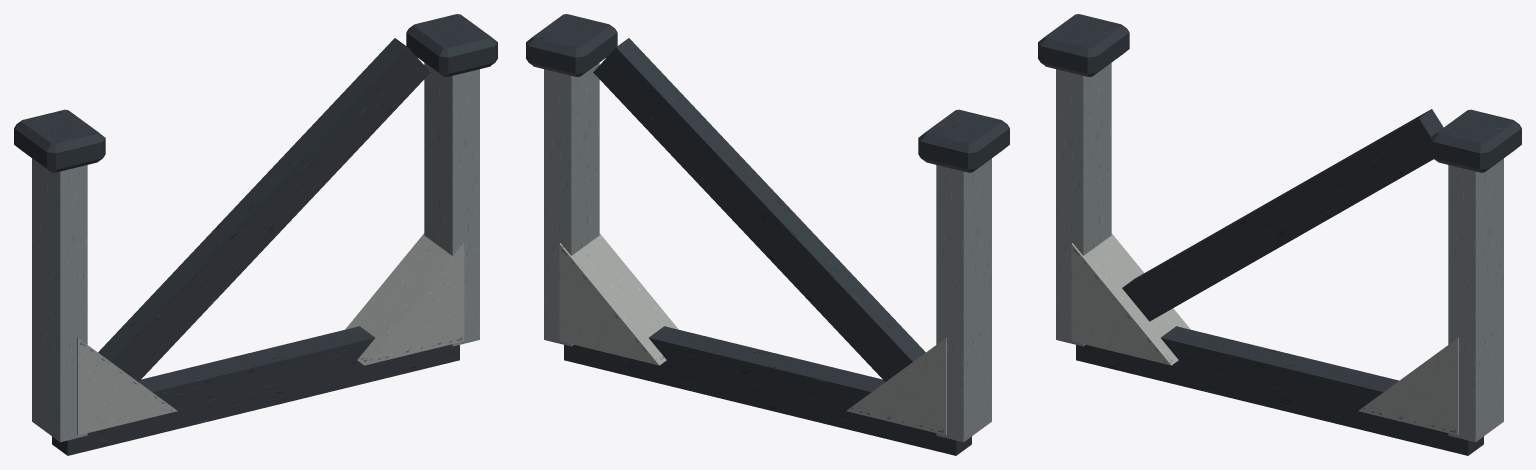
Rendered from DeckBrace4m.fbx.
The picture shows the model from 3 angles, left to right: view 1: azimuth 30°, elevation 25°; view 2: azimuth 150°, elevation 25°; view 3: azimuth 330°, elevation 25°; orthographic projection.
Visible parts, largest first — view 1: DeckBrace4m; view 2: DeckBrace4m; view 3: DeckBrace4m.
Part boxes in pixels (bbox=[...]): DeckBrace4m: bbox=[14, 14, 497, 455]; DeckBrace4m: bbox=[526, 14, 1009, 455]; DeckBrace4m: bbox=[1038, 14, 1521, 455].
Bounding box in the file's own units: 460 × 316 × 70.
